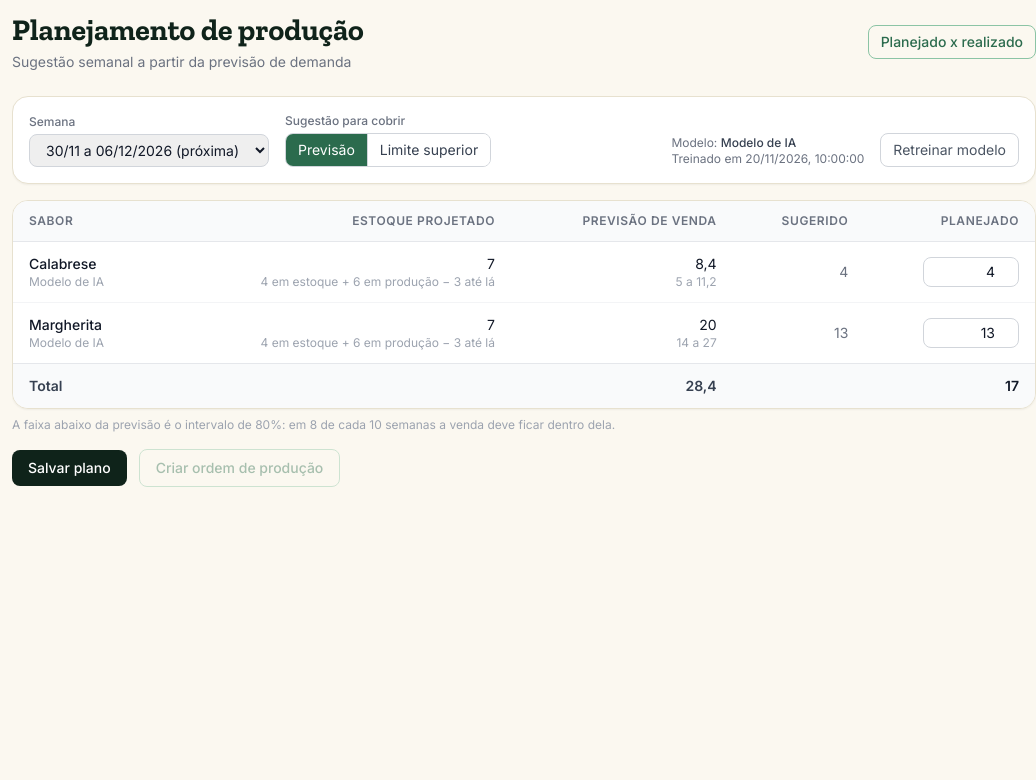
tela de planejamento de produção › quantidade inválida não é enviada
expect the text "Margherita" is shown: met, box [29,316,102,333]
Clear the number field in the row of "Margherita" at (971, 333), box [923,318,1019,348]
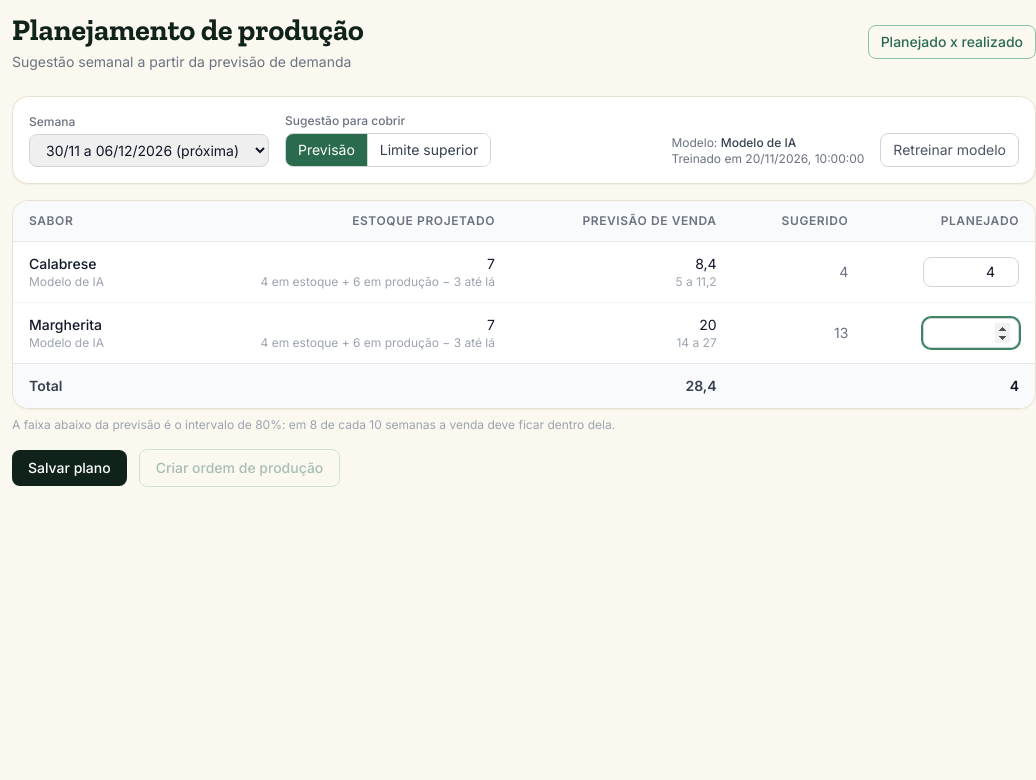
Click the button "Salvar plano" at (69, 468), box [12,450,127,486]
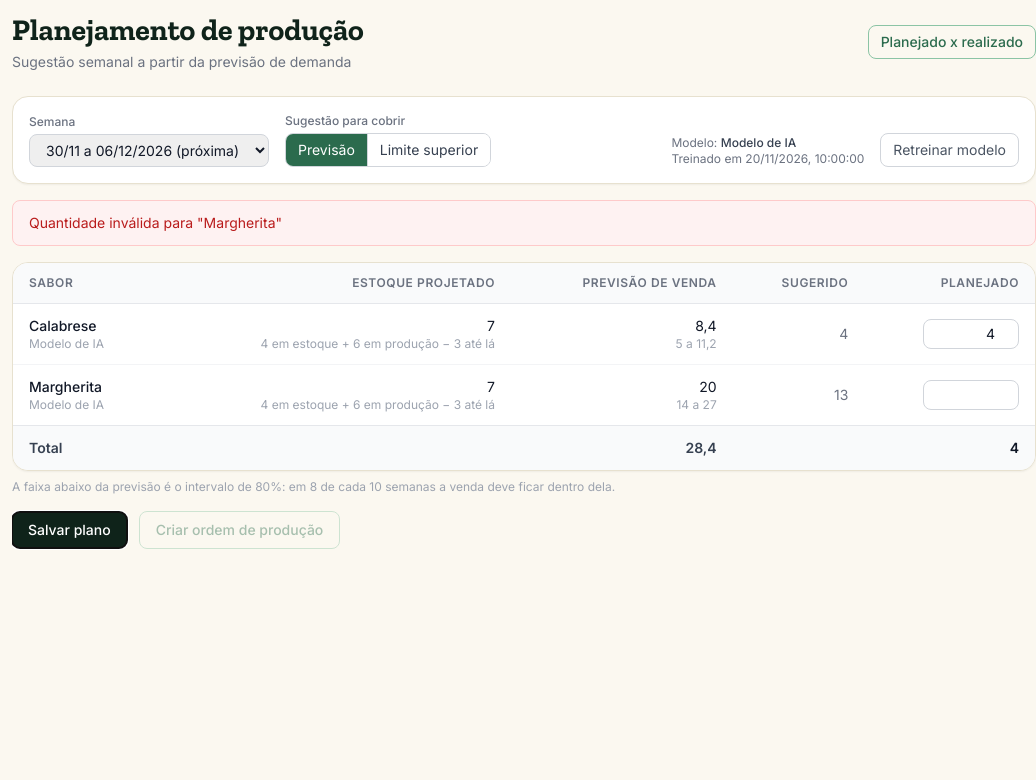
expect the text "Quantidade inválida para \"Margherita\"" is shown: met, box [12,200,1035,246]
